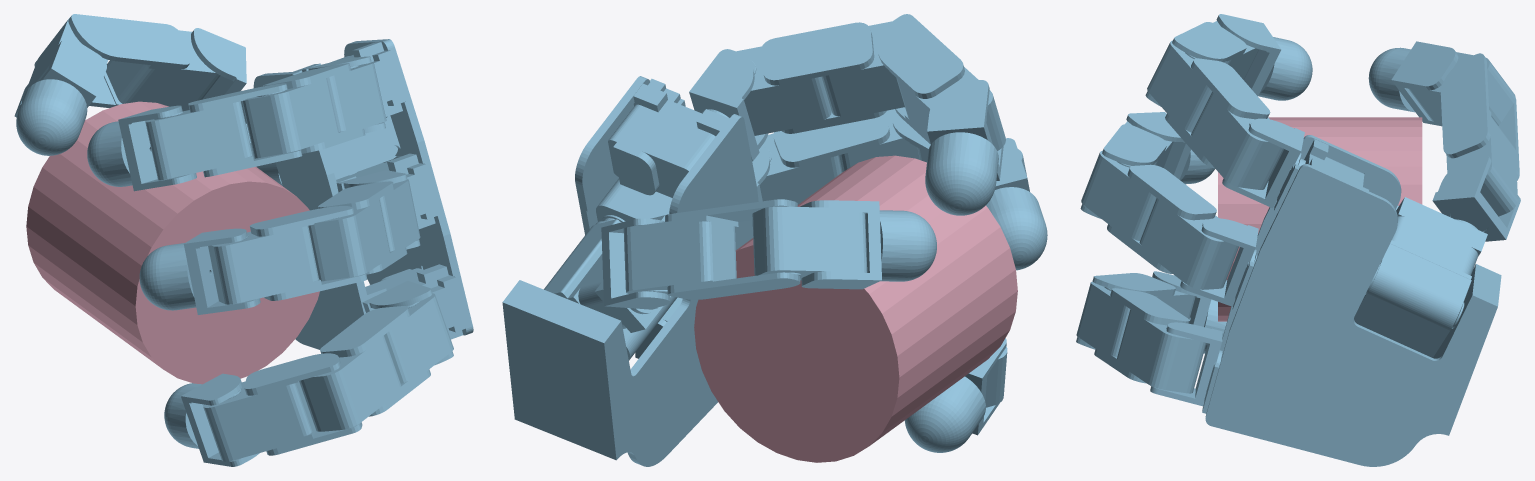
The picture shows the model from 3 angles, left to right: view 1: azimuth 30°, elevation 25°; view 2: azimuth 150°, elevation 25°; view 3: azimuth 270°, elevation 25°; orthographic projection. The views are drawn at different scales.
Parts seen in each view (by area): view 1: world; view 2: world; view 3: world.
Boxes of the visible parts, x1=… form: world: x1=14, y1=14, x2=473, y2=466; world: x1=502, y1=14, x2=1047, y2=466; world: x1=1076, y1=14, x2=1520, y2=466.
Size of the model in its own units: 0.1523 by 0.1481 by 0.174.
